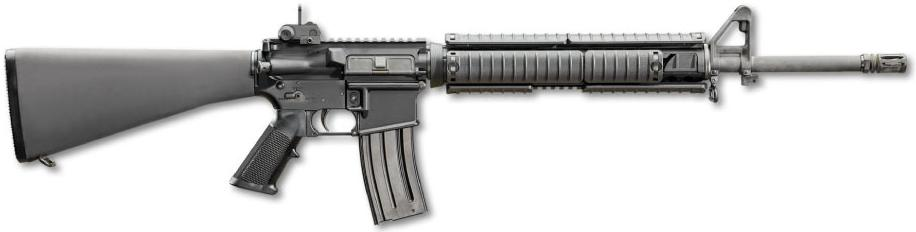gun: (1, 0, 916, 232)
